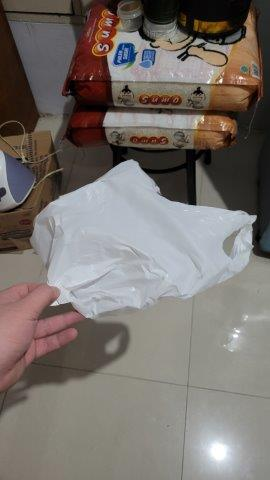plastik: (36, 161, 252, 317)
